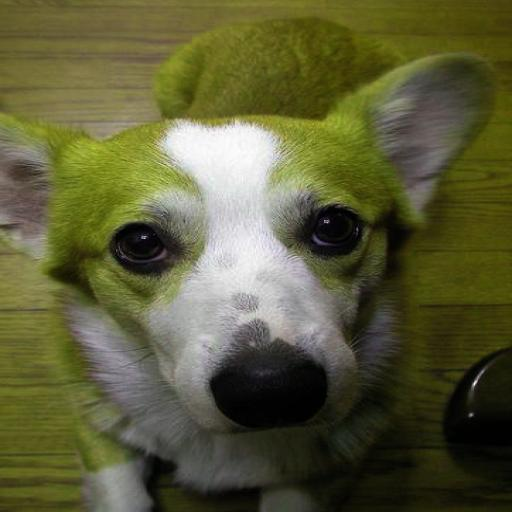dog_face: (0, 62, 475, 410)
